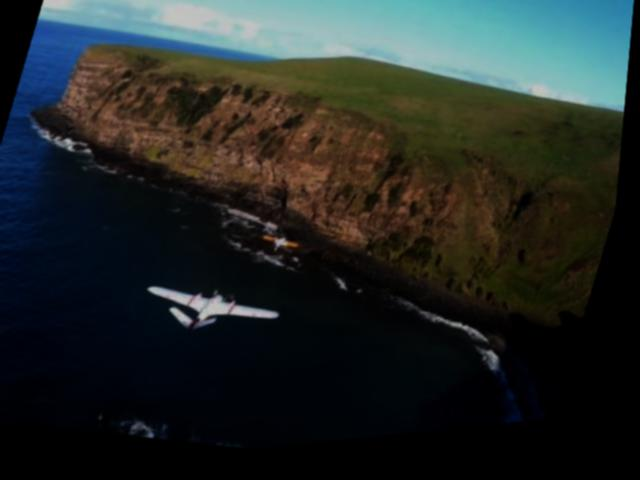uav: (137, 273, 295, 357), (262, 233, 309, 262)
